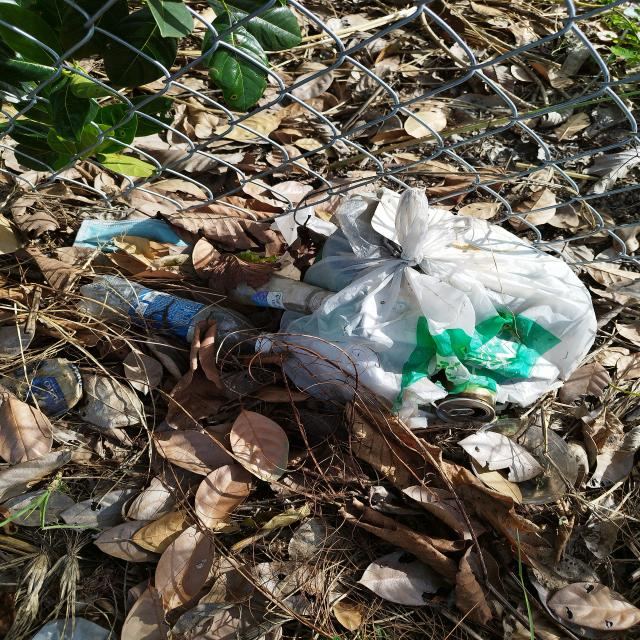bottle: (77, 274, 275, 356)
cardboard box: (0, 357, 83, 421)
mask: (72, 218, 193, 253)
trash bag: (276, 187, 598, 417)
